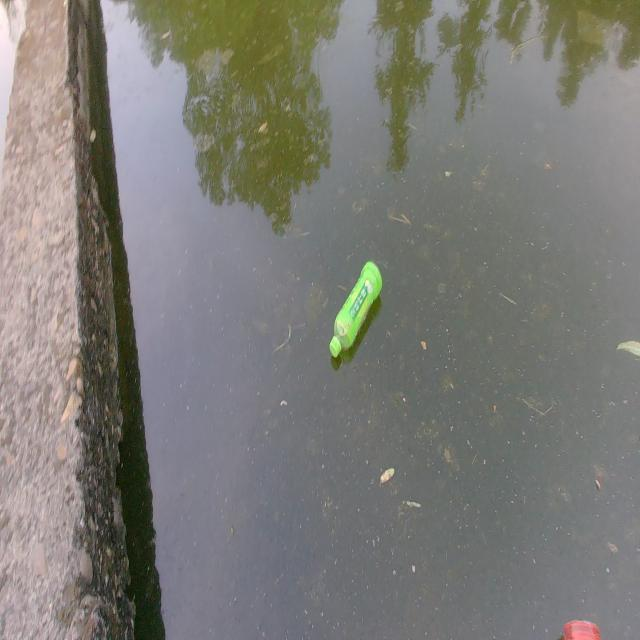bottle: (322, 242, 393, 368)
